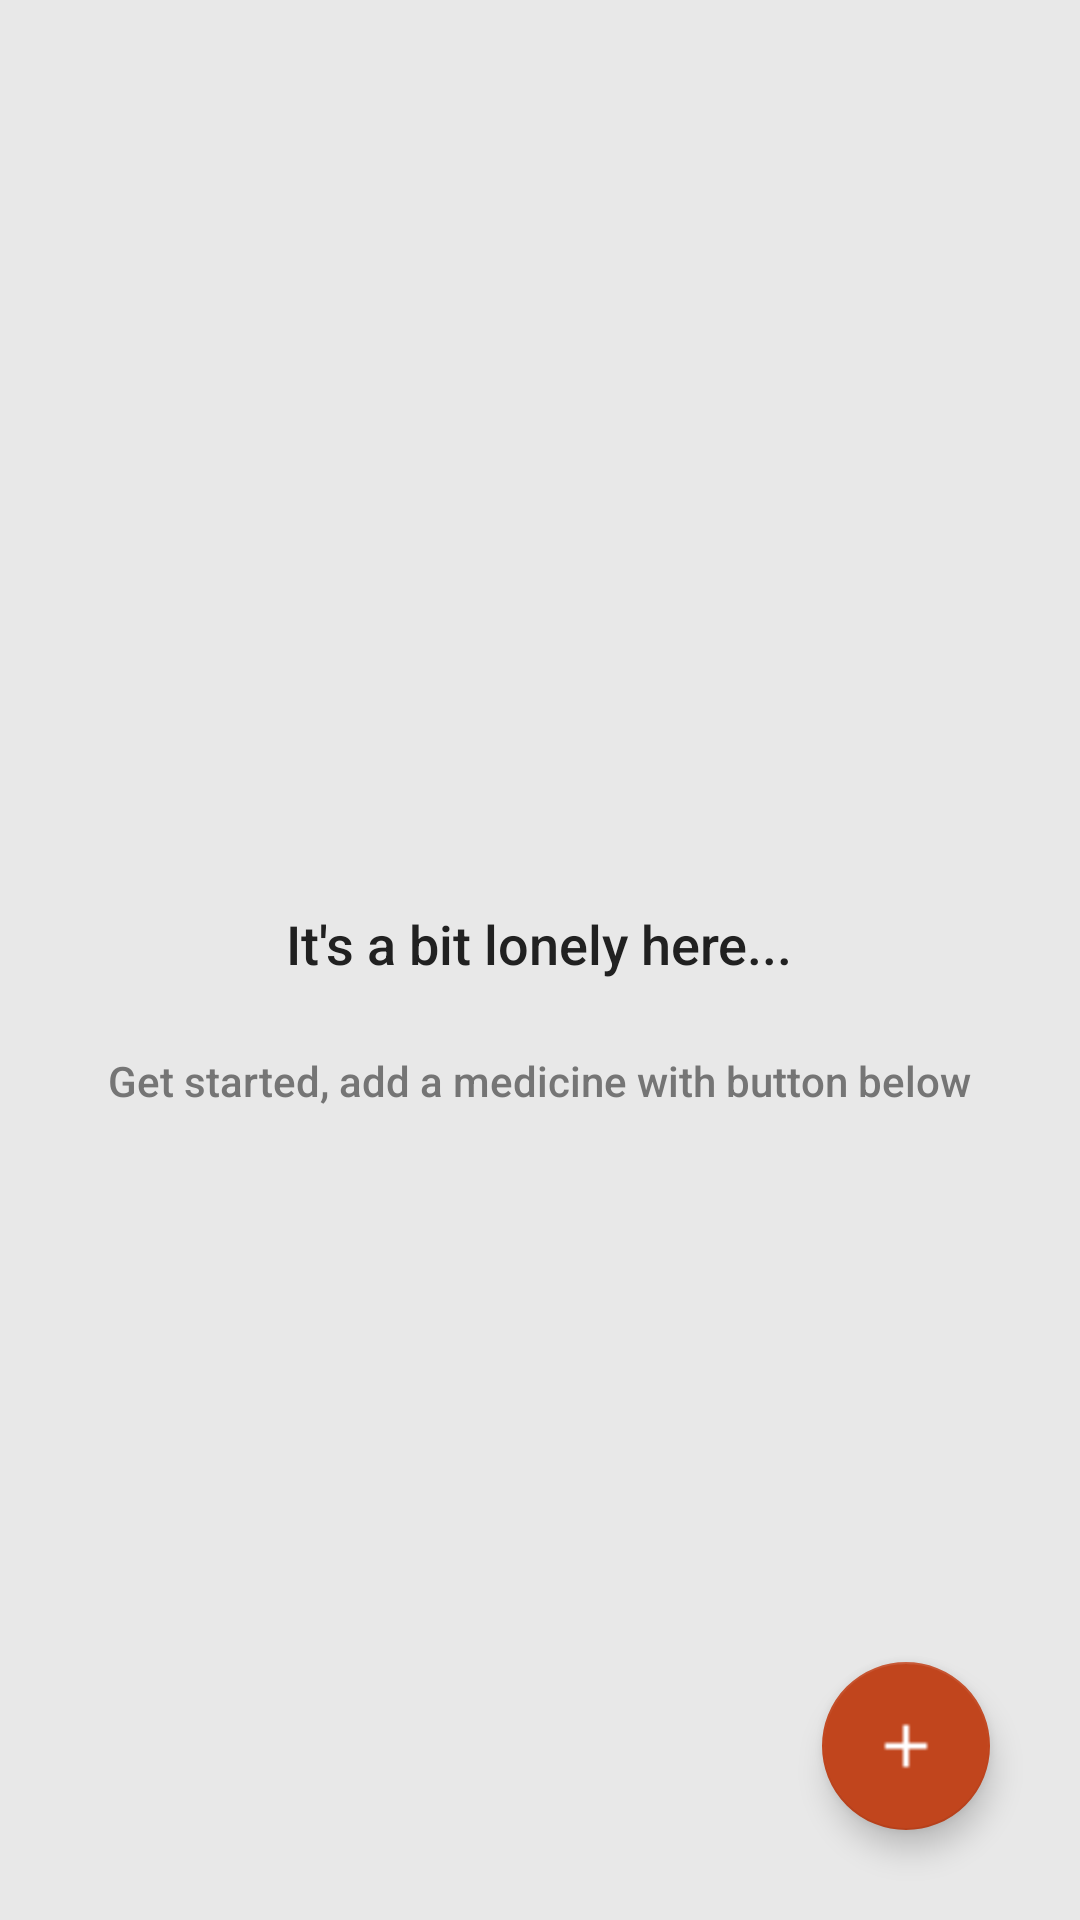

Icon click points for this 1080×1920 phone screenshot, format [x,y]:
add med: [906,1746]
